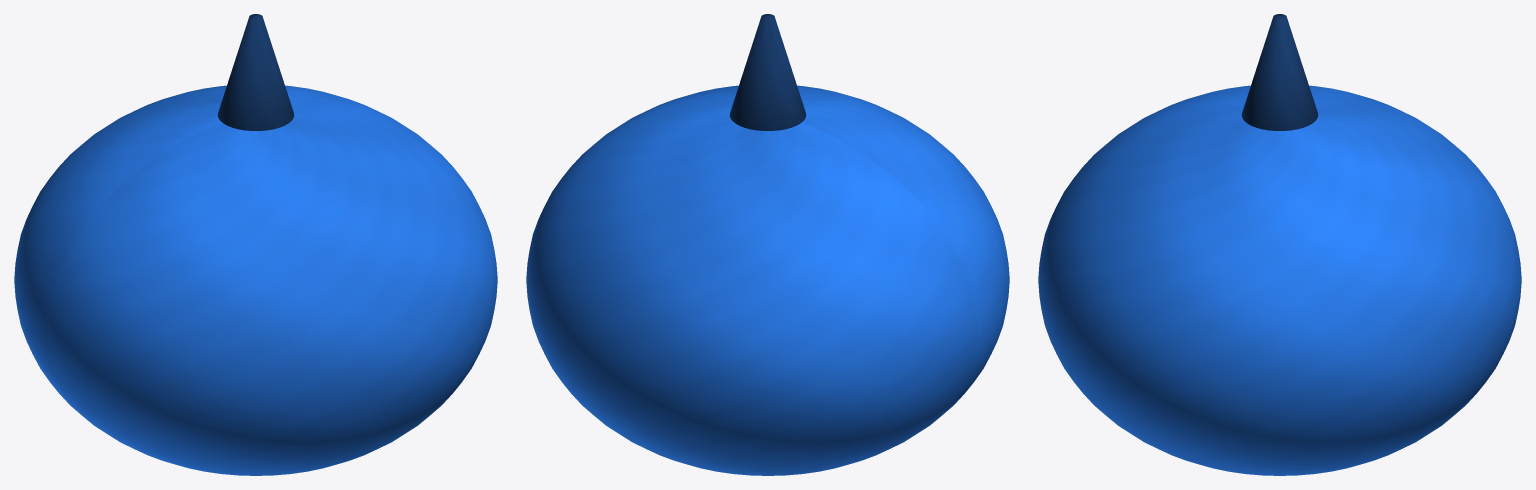
Rendered from monster_Poring.glb.
3 renders of one model, left to right at view 1: azimuth 30°, elevation 25°; view 2: azimuth 150°, elevation 25°; view 3: azimuth 270°, elevation 25°, orthographic.
Visible parts, largest first — view 1: Body, Crown; view 2: Body, Crown; view 3: Body, Crown.
Part boxes in pixels (x1=…): Body: x1=14, y1=85, x2=497, y2=475; Crown: x1=218, y1=14, x2=293, y2=130; Body: x1=526, y1=85, x2=1009, y2=475; Crown: x1=730, y1=14, x2=805, y2=130; Body: x1=1038, y1=85, x2=1521, y2=475; Crown: x1=1242, y1=14, x2=1317, y2=130.
Bounding box in the file's own units: 1.44 × 1.41 × 1.44.
2 materials, 2 textured.
